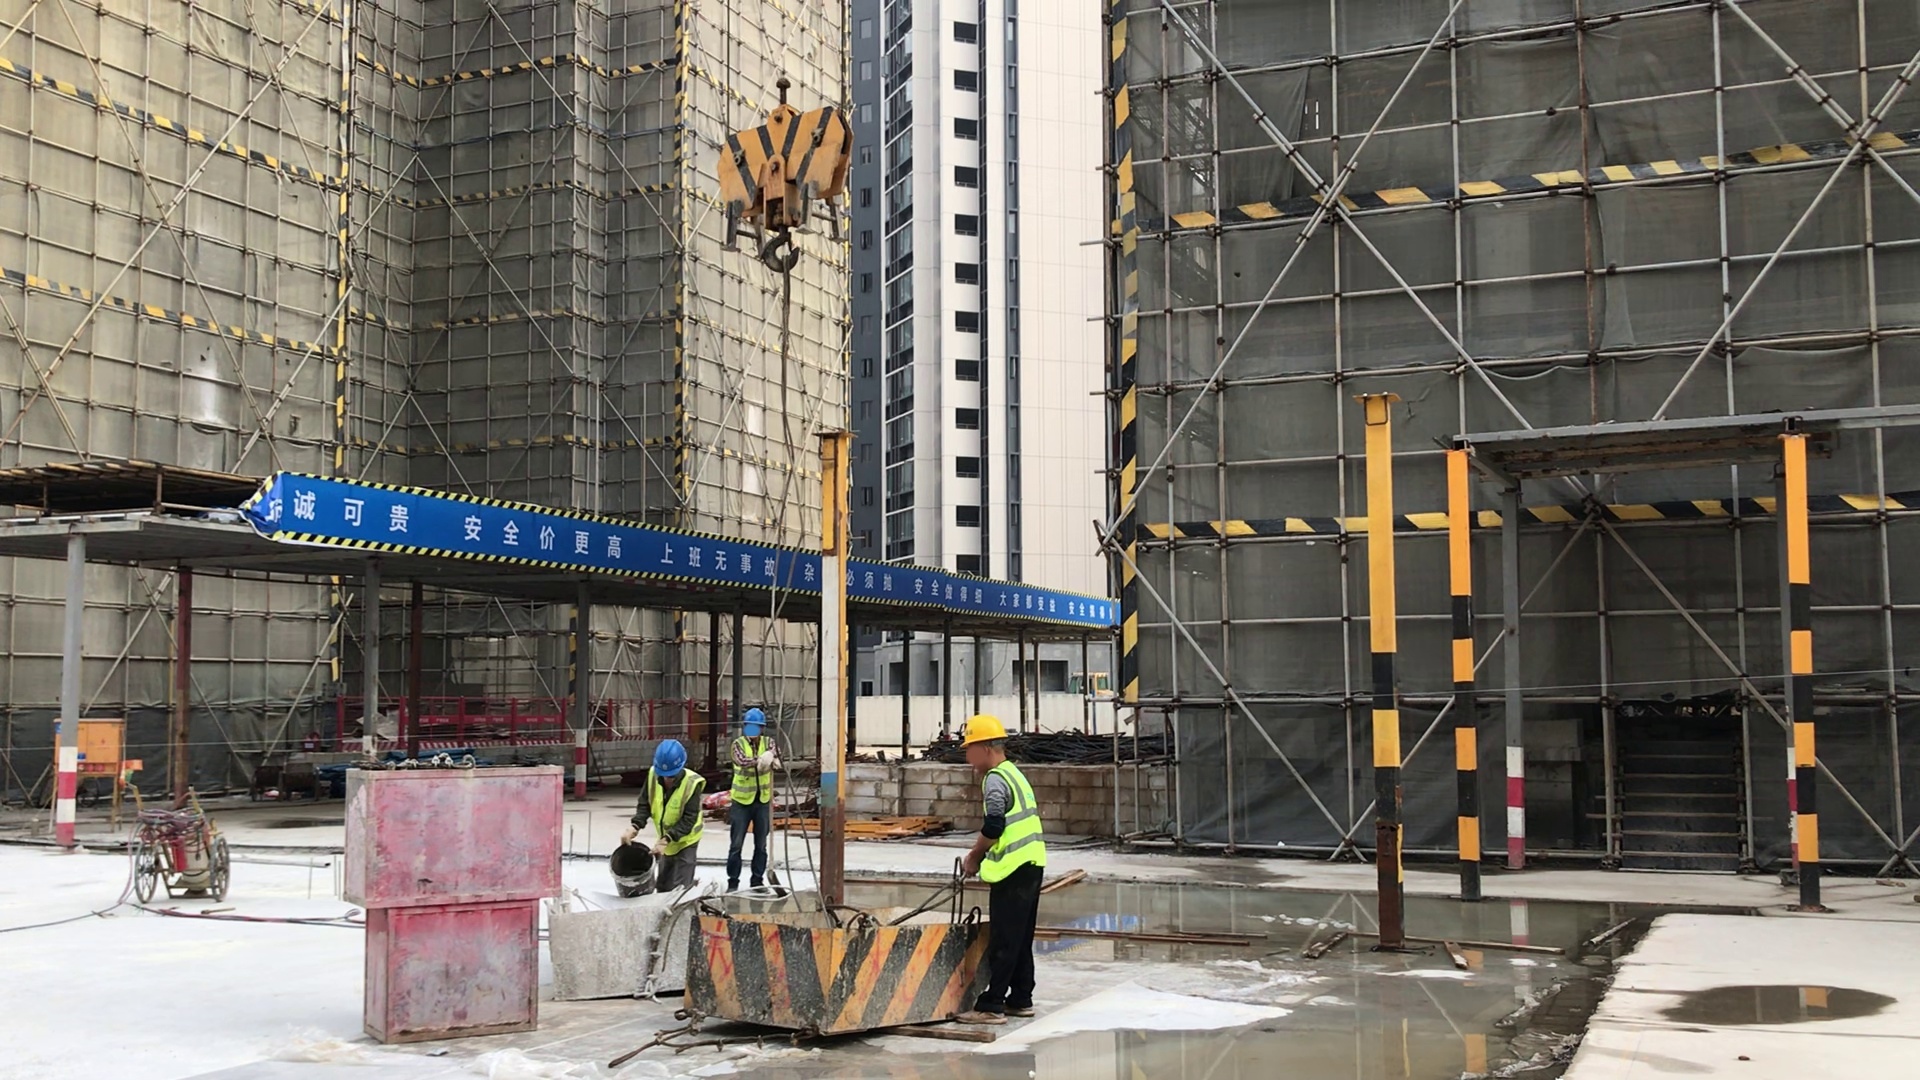ebox: (52, 712, 123, 787)
fence: (323, 685, 701, 767)
handcart: (122, 801, 234, 902)
helmet: (959, 709, 1008, 752), (652, 741, 691, 778), (741, 708, 762, 731)
hook: (697, 71, 856, 271)
hopper: (669, 900, 986, 1048), (538, 889, 740, 1001)
person: (945, 711, 1063, 1030), (625, 728, 704, 912), (729, 695, 789, 892)
slogan: (245, 474, 1122, 635)
vest: (980, 779, 1047, 880), (637, 769, 696, 856), (726, 731, 780, 812)
